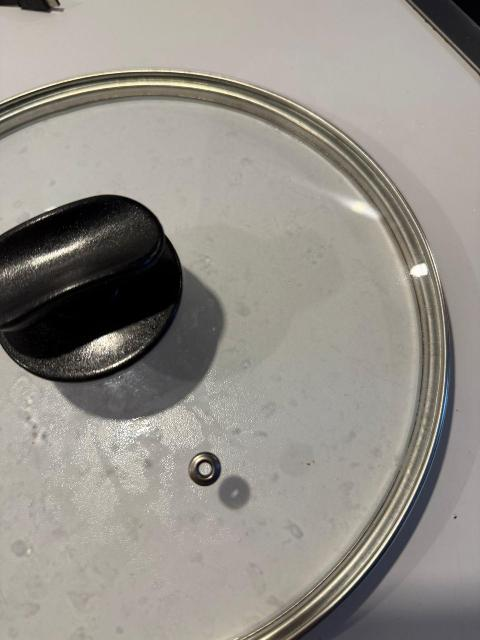Cam: (0, 61, 456, 640), (56, 268, 224, 420), (342, 244, 381, 338), (347, 219, 387, 276), (326, 414, 364, 466), (335, 335, 378, 378), (275, 418, 306, 477), (386, 269, 412, 338), (333, 185, 376, 220), (306, 430, 334, 478), (308, 307, 338, 349), (108, 388, 129, 439), (219, 476, 250, 510), (247, 563, 278, 597), (354, 385, 381, 422), (228, 556, 247, 601), (340, 478, 365, 512), (313, 486, 341, 516), (168, 603, 193, 636), (13, 378, 35, 409), (372, 440, 404, 460), (228, 406, 257, 428), (277, 212, 298, 240), (47, 407, 71, 430), (322, 268, 344, 292), (282, 518, 304, 542), (221, 293, 238, 324), (152, 504, 168, 535), (90, 511, 105, 544), (327, 218, 344, 245), (111, 456, 132, 476), (314, 193, 328, 223), (256, 401, 281, 417), (80, 387, 98, 408), (301, 244, 319, 265), (322, 170, 335, 198), (241, 444, 252, 477), (366, 424, 384, 444), (399, 338, 417, 357), (262, 205, 273, 235), (253, 443, 265, 469), (242, 244, 254, 270), (71, 591, 99, 602), (255, 380, 271, 399), (409, 262, 429, 277), (239, 353, 257, 369), (344, 314, 358, 334), (135, 422, 152, 438), (334, 469, 348, 487), (386, 404, 401, 420), (128, 378, 144, 392), (329, 514, 338, 537), (143, 501, 155, 518), (300, 481, 307, 509), (326, 370, 345, 380), (365, 342, 378, 356), (170, 416, 184, 429), (105, 561, 116, 577), (322, 539, 334, 553), (66, 479, 78, 493), (268, 495, 275, 518), (321, 398, 328, 421), (271, 596, 284, 608), (268, 358, 281, 370), (162, 584, 175, 596), (242, 521, 254, 534), (148, 385, 162, 396), (214, 519, 231, 528), (122, 438, 131, 454), (272, 200, 281, 216), (195, 614, 205, 628), (157, 350, 166, 365), (194, 540, 205, 552), (280, 501, 290, 514), (177, 440, 185, 456), (208, 390, 216, 405), (126, 484, 138, 494), (292, 338, 298, 358), (333, 454, 342, 467), (297, 263, 305, 276), (354, 299, 361, 313), (368, 466, 374, 480), (314, 388, 320, 401)
Metal: (188, 452, 224, 491)
Plastik: (0, 174, 198, 381)
